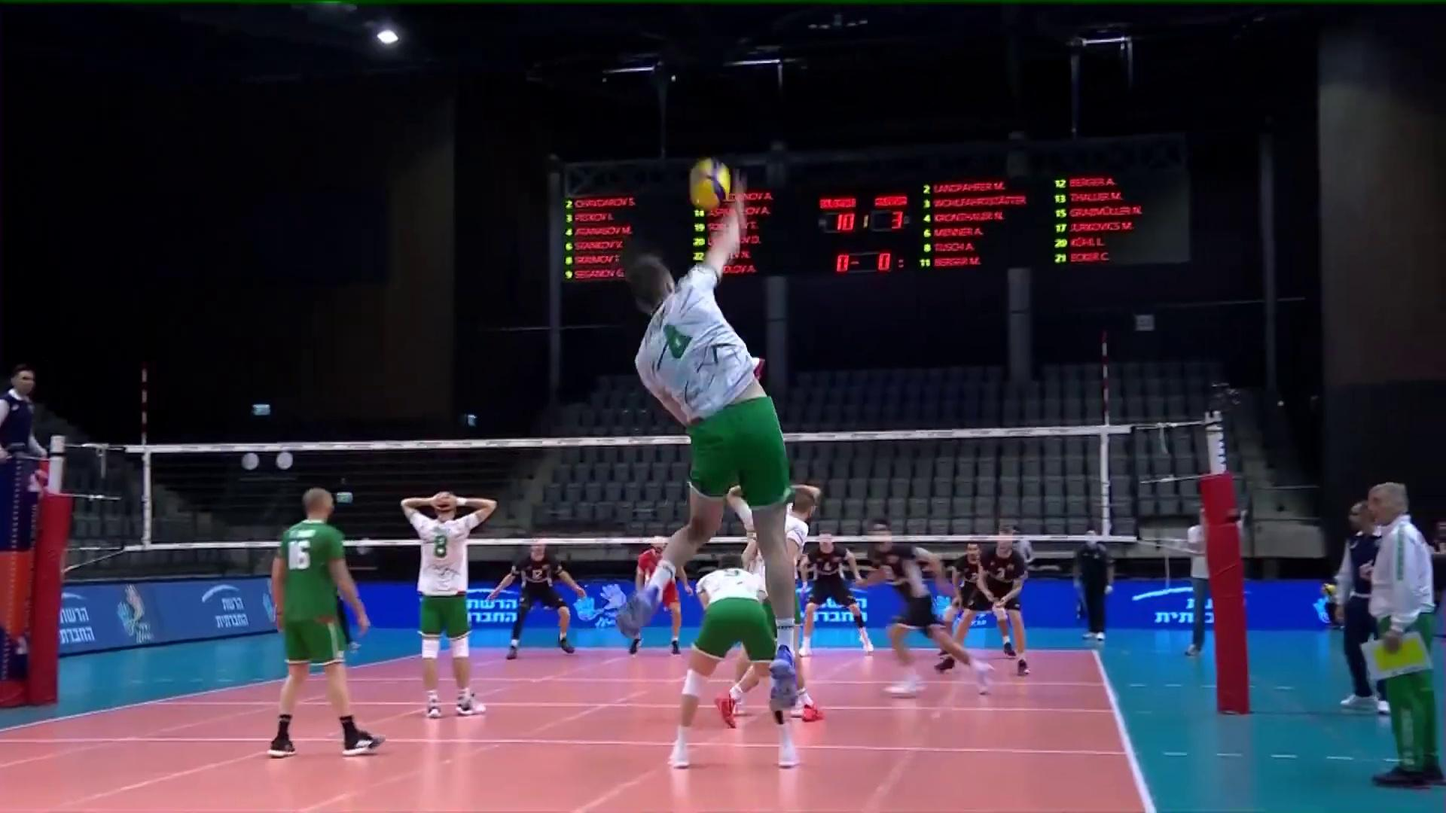ball: (688, 159, 731, 209)
